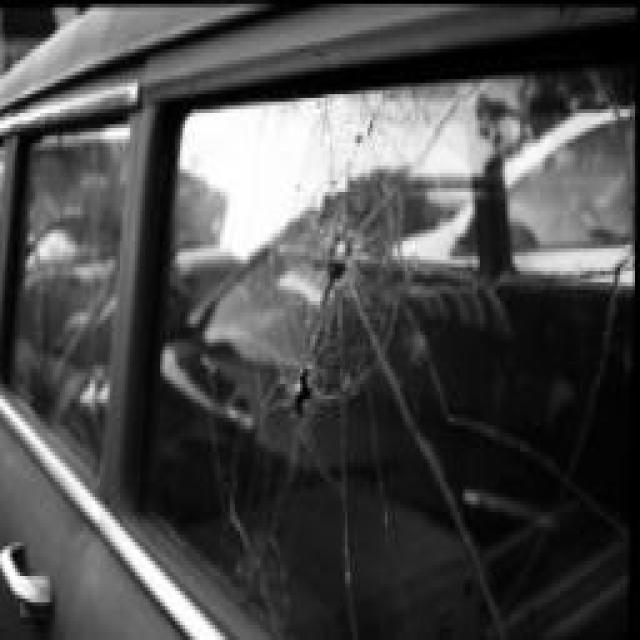Door: (110, 19, 640, 639)
